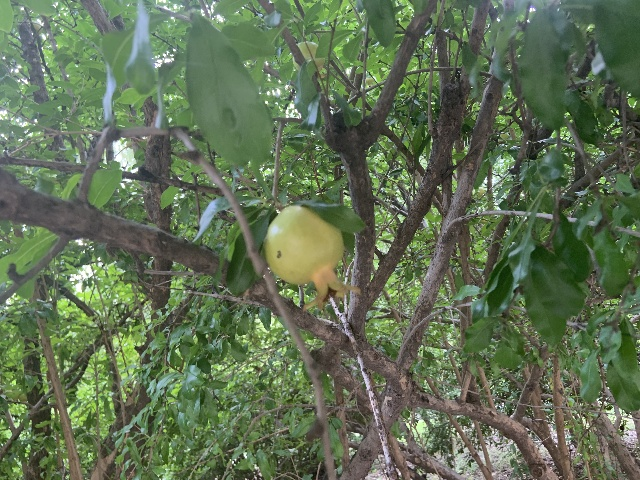mid-growth: (263, 205, 360, 313), (292, 41, 326, 78), (365, 75, 376, 87)
